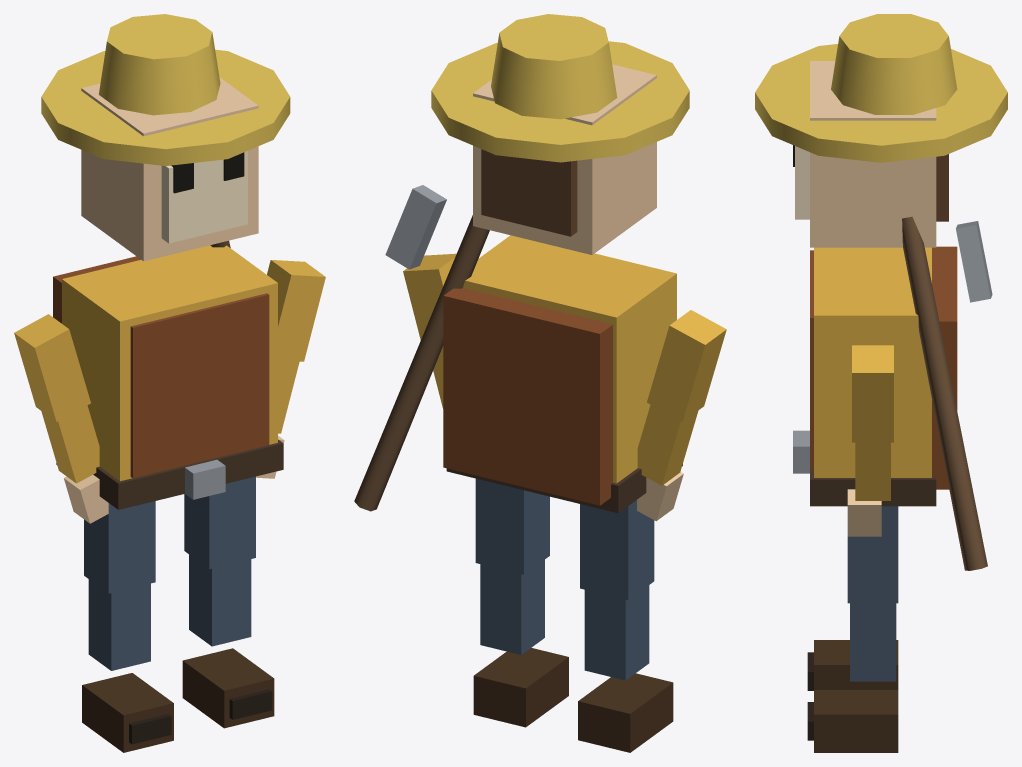
The model's file is avatar.glb.
The picture shows the model from 3 angles, left to right: view 1: azimuth 30°, elevation 25°; view 2: azimuth 150°, elevation 25°; view 3: azimuth 270°, elevation 25°; orthographic projection. The views are drawn at different scales.
Parts seen in each view (by area): view 1: head, torso, vest, leg_l, leg_r, arm_l, face, arm_r, cape; view 2: head, cape, torso, leg_l, leg_r, arm_l, hair_back, tool_shaft, tool_head, arm_r; view 3: head, torso, leg_r, tool_shaft, arm_r, cape, leg_l, tool_head, face, vest, hair_back.
Boxes of the visible parts, x1,y1,x2,y2 form: head: (41,14,290,261); torso: (56,245,283,509); vest: (130,293,269,478); leg_l: (82,501,173,752); leg_r: (182,476,274,728); arm_l: (14,314,108,523); face: (161,151,247,243); arm_r: (256,260,325,478); cape: (53,256,140,323); head: (431,14,689,254); cape: (443,288,612,505); torso: (446,235,682,513); leg_l: (578,500,673,752); leg_r: (473,478,568,727); arm_l: (637,310,726,521); hair_back: (481,149,577,236); tool_shaft: (354,215,489,511); tool_head: (385,185,446,269); arm_r: (403,253,456,408); head: (755,14,1007,247); torso: (793,247,936,506); leg_r: (807,506,898,752); tool_shaft: (902,216,987,570); arm_r: (847,345,893,536); cape: (932,246,957,489); leg_l: (807,640,898,690); tool_head: (956,221,992,302); face: (795,146,809,219); vest: (810,250,813,470); hair_back: (936,154,948,221).
Size of the model in its own units: 0.8214 by 1.78 by 0.6.
